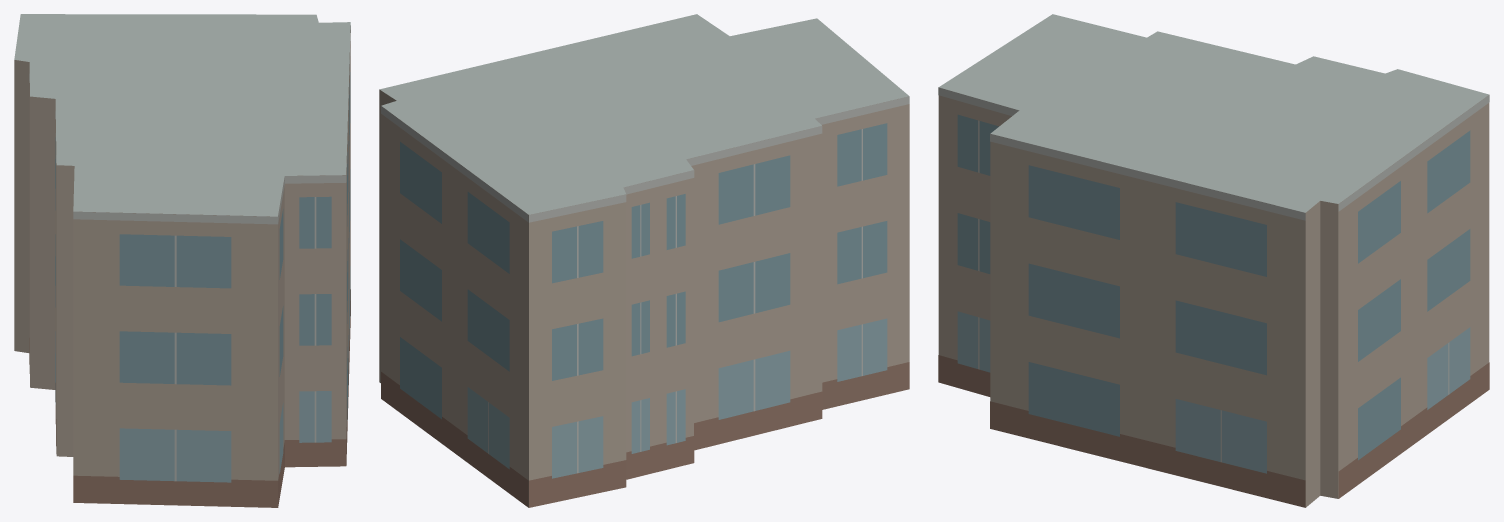
File: survey-upis-32613812.glb
3 views of the same model, side by side, from view 1: azimuth 30°, elevation 25°; view 2: azimuth 150°, elevation 25°; view 3: azimuth 270°, elevation 25° (orthographic).
Visible parts, largest first — view 1: survey-upis-32613812.tmp; view 2: survey-upis-32613812.tmp; view 3: survey-upis-32613812.tmp.
Boxes of the visible parts, x1,y1,x2,y2 form: survey-upis-32613812.tmp: (14,14,350,507); survey-upis-32613812.tmp: (379,14,909,507); survey-upis-32613812.tmp: (938,14,1489,507).
Size of the model in its own units: 13.23 by 9.15 by 15.5.
